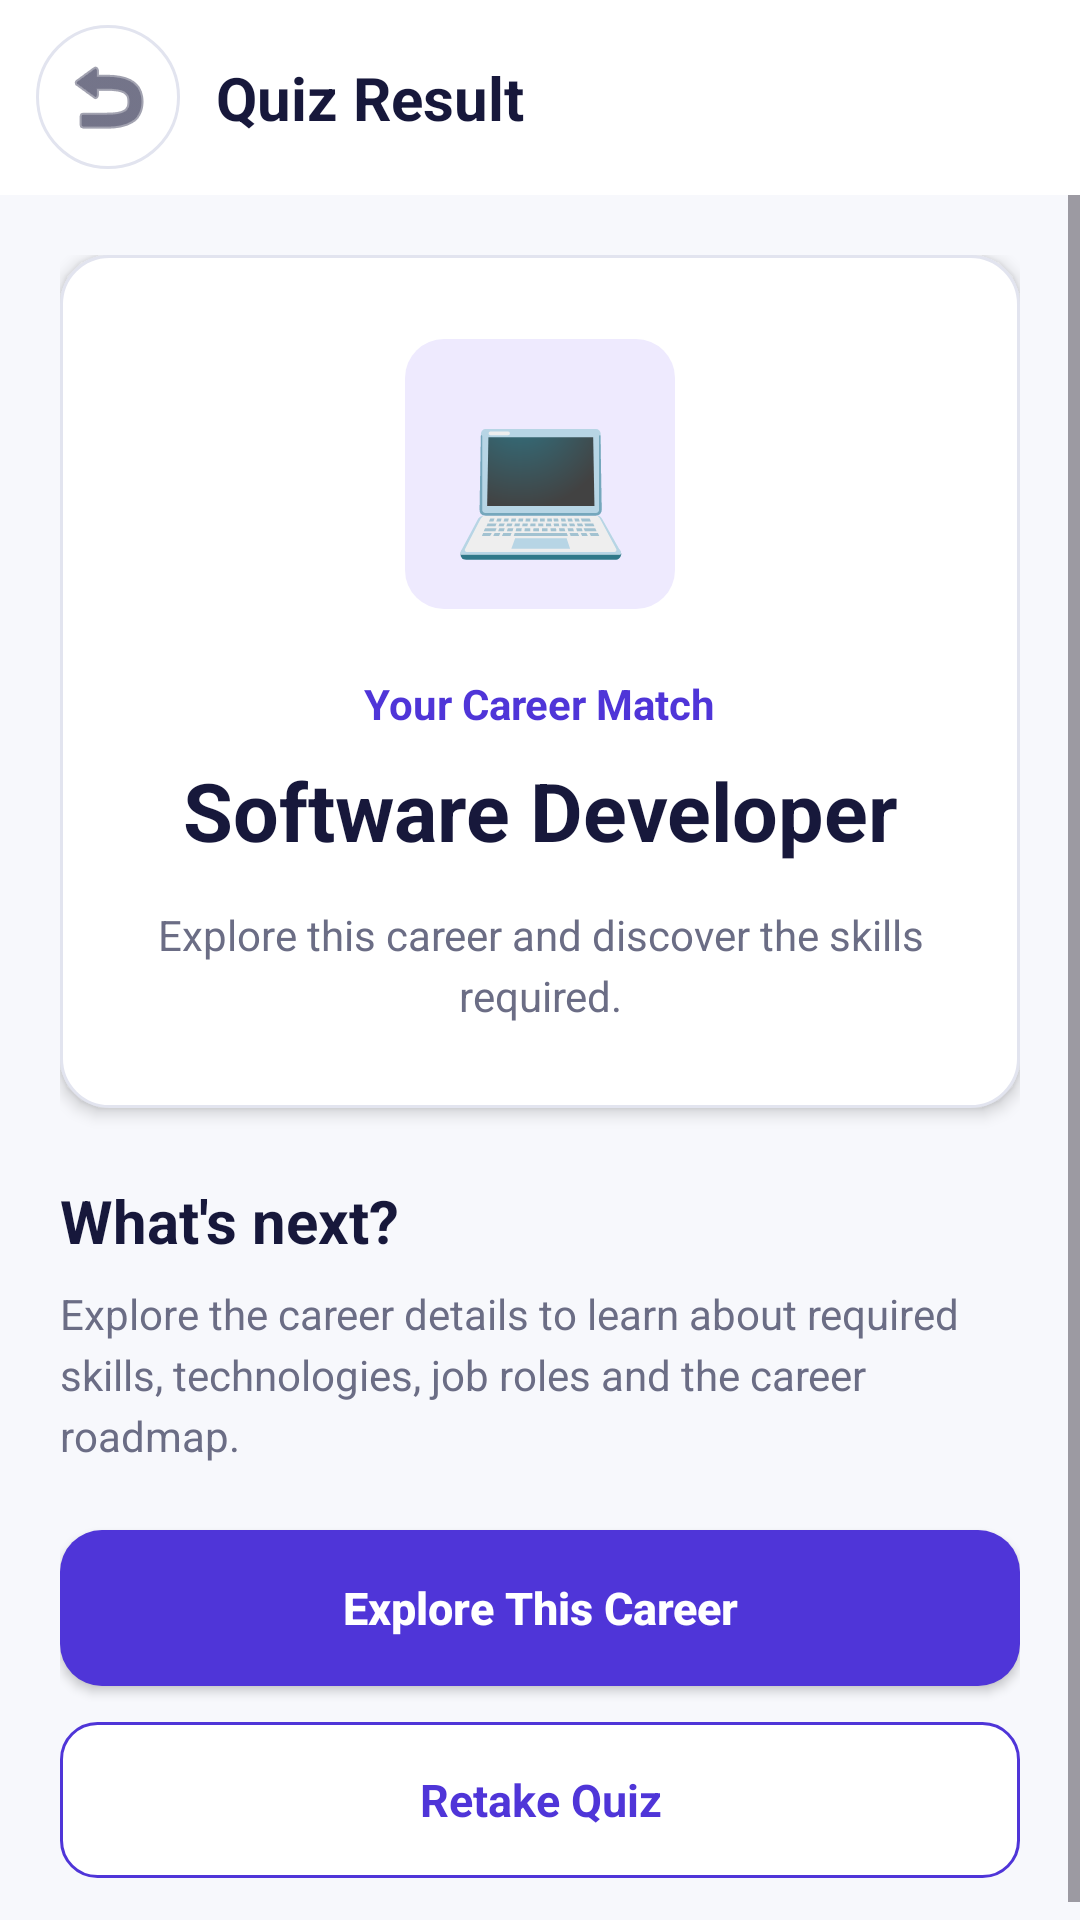

Named icons in this screenshot (1080 x 1920) and their bounding boxes, (x1, y1, x2, y2):
Back: (36, 25, 180, 169)
